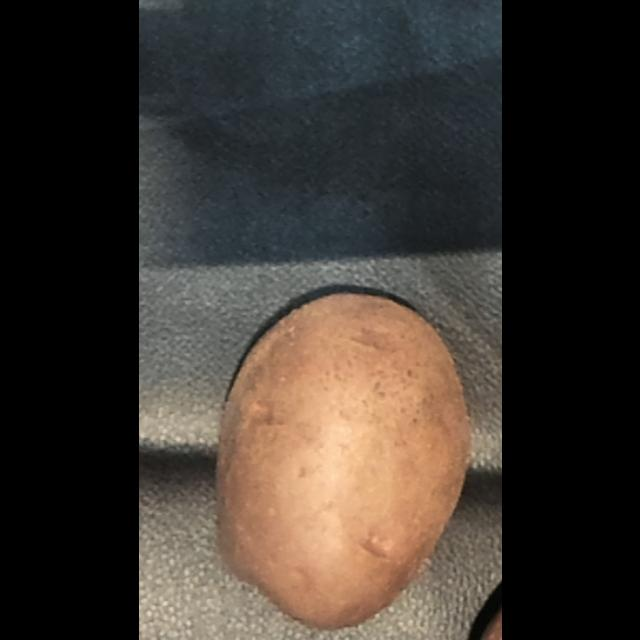Diseased-fungal potato: (208, 284, 474, 628)
